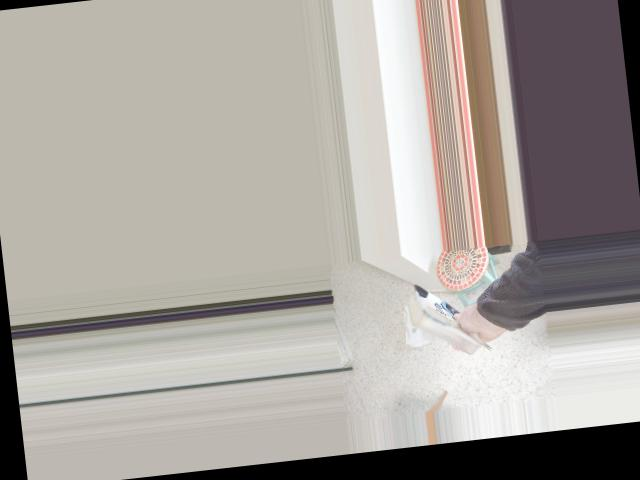cheese: (391, 263, 507, 371)
